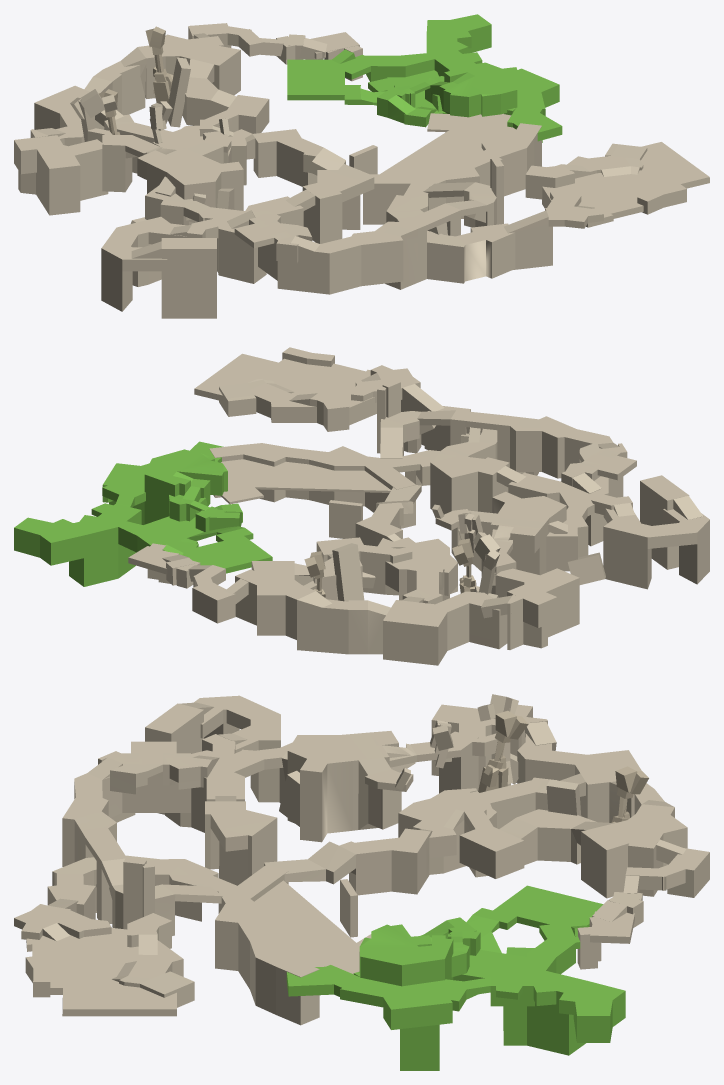
File: FloorsGrotto.fbx
3 views of the same model, one above another, from view 1: azimuth 30°, elevation 25°; view 2: azimuth 150°, elevation 25°; view 3: azimuth 270°, elevation 25° (orthographic). The views are drawn at different scales.
Parts seen in each view (by area): view 1: Floor_Entrance, Floor_Butterfly, LinkerBulk, FloorFaroff, FarRise, Butter_Stalagnals, Floor_SideEntrance, LinkerRamps, EntranceRubble; view 2: Floor_Butterfly, Floor_Entrance, LinkerBulk, FloorFaroff, FarRise, Butter_Stalagnals, Floor_SideEntrance, LinkerRamps, EntranceRubble; view 3: Floor_Butterfly, Floor_Entrance, FloorFaroff, LinkerBulk, Butter_Stalagnals, FarRise, Floor_SideEntrance, EntranceRubble, LinkerRamps.
Boxes of the visible parts, x1,y1,x2,y2 form: Floor_Entrance: (234, 113, 709, 294); Floor_Butterfly: (14, 34, 377, 224); LinkerBulk: (101, 170, 374, 318); FloorFaroff: (287, 14, 562, 142); FarRise: (377, 62, 517, 127); Butter_Stalagnals: (70, 26, 229, 143); Floor_SideEntrance: (188, 23, 362, 81); LinkerRamps: (131, 176, 315, 258); EntranceRubble: (427, 156, 503, 235); Floor_Butterfly: (235, 485, 579, 665); Floor_Entrance: (194, 347, 636, 528); LinkerBulk: (430, 453, 709, 589); FloorFaroff: (14, 441, 272, 586); FarRise: (144, 449, 242, 531); Butter_Stalagnals: (304, 504, 500, 601); Floor_SideEntrance: (128, 543, 248, 623); LinkerRamps: (496, 466, 703, 533); EntranceRubble: (377, 380, 482, 453); Floor_Butterfly: (264, 704, 687, 937); Floor_Entrance: (14, 741, 371, 1025); FloorFaroff: (286, 885, 625, 1070); LinkerBulk: (145, 695, 292, 885); Butter_Stalagnals: (395, 694, 648, 822); FarRise: (353, 917, 480, 986); Floor_SideEntrance: (577, 839, 709, 969); EntranceRubble: (96, 858, 154, 929); LinkerRamps: (179, 702, 247, 801).
Size of the model in its own units: 9587 by 9145 by 2058.
